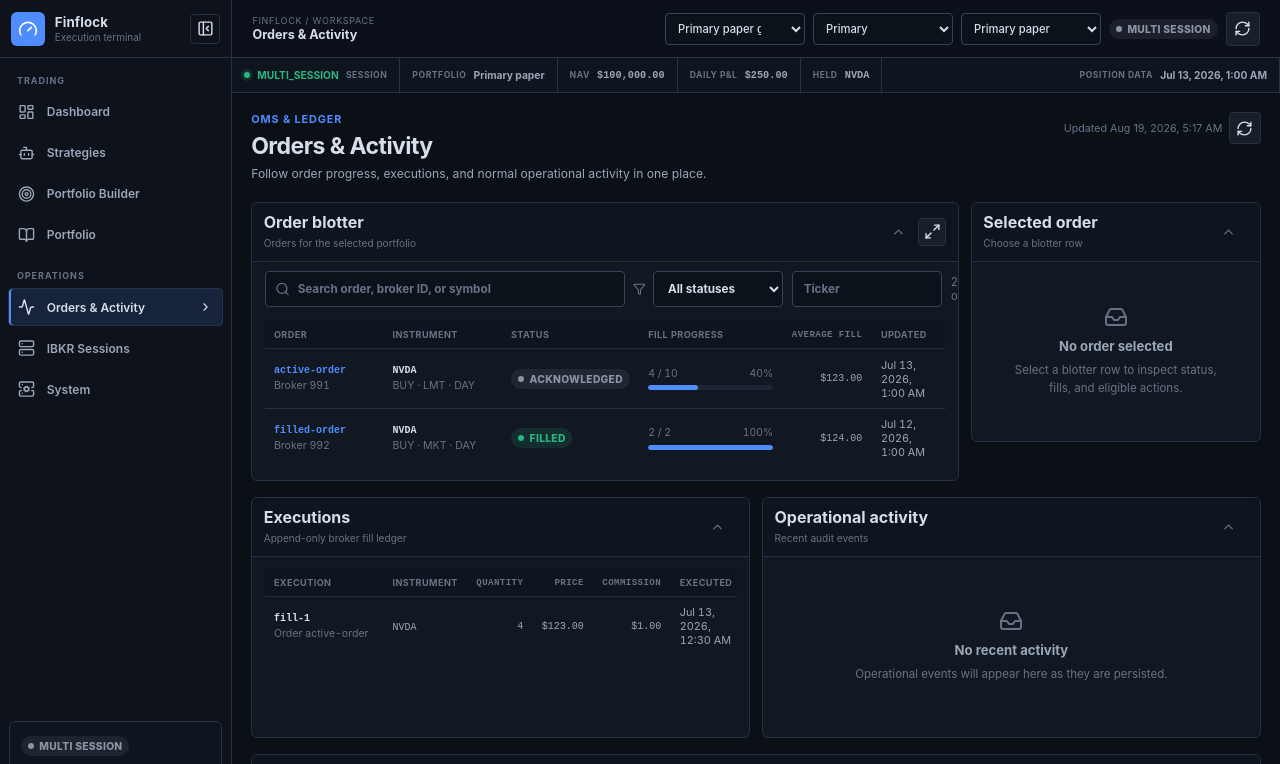
Test: order drawer displays the exact broker rejection reason and explicit empty fallback
Click the button "active-order": (324, 370) [274,365,374,376]
(page scrolled)
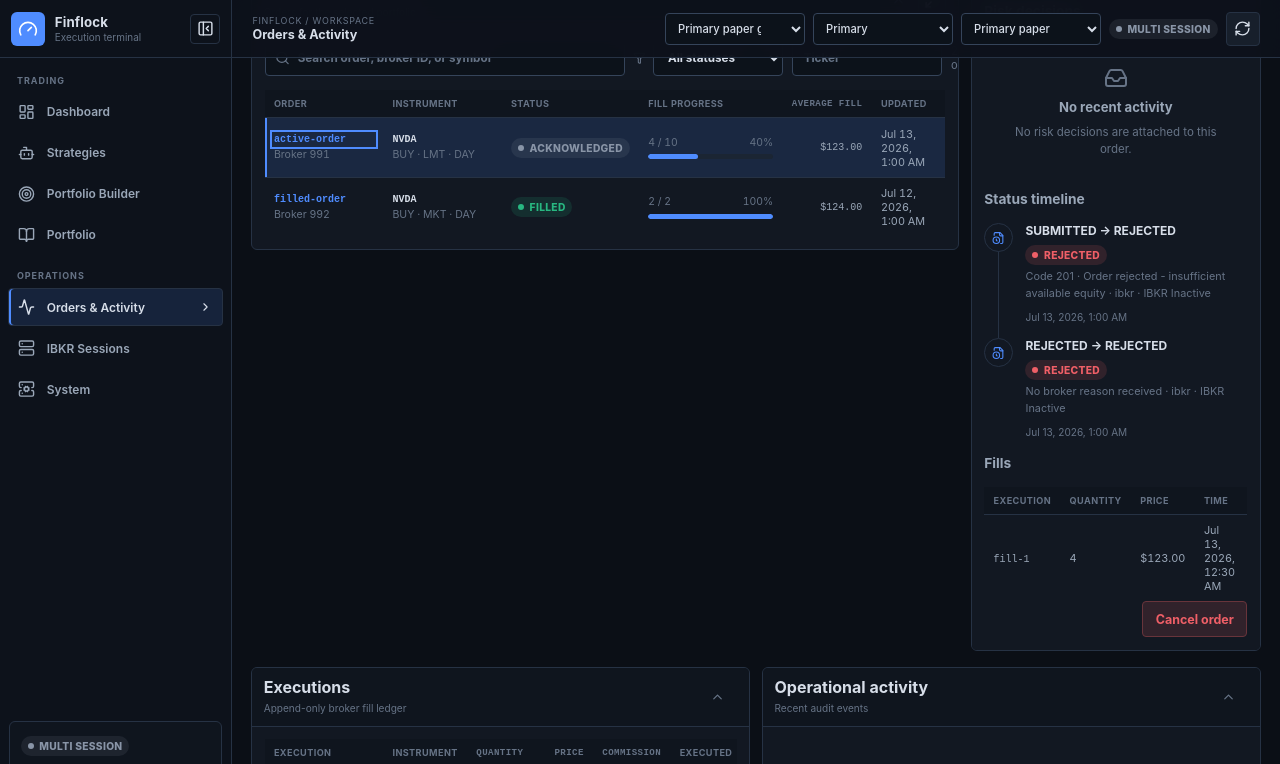
Expected: the text "Code 201 · Order rejected - insufficient available equity · ibkr · IBKR Inactive" is shown, [1026,268,1247,302]
Expected: the text "No broker reason received · ibkr · IBKR Inactive" is shown, [1026,383,1247,417]
